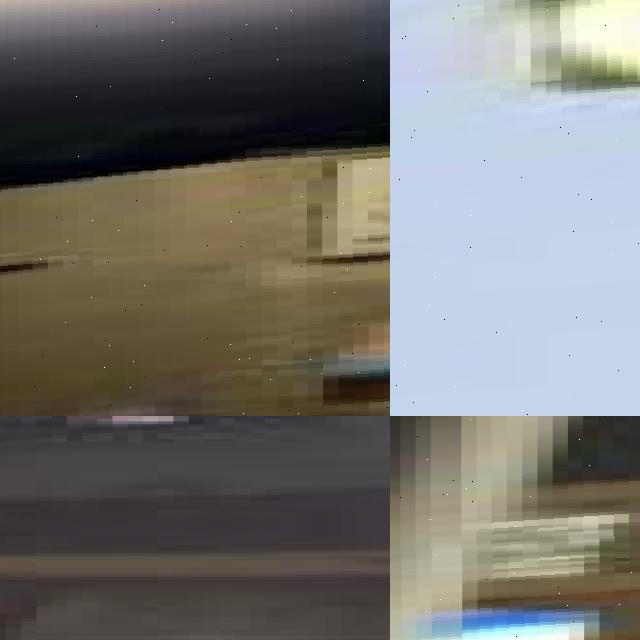street light: (0, 0, 390, 416), (390, 0, 640, 416), (390, 416, 640, 640)
